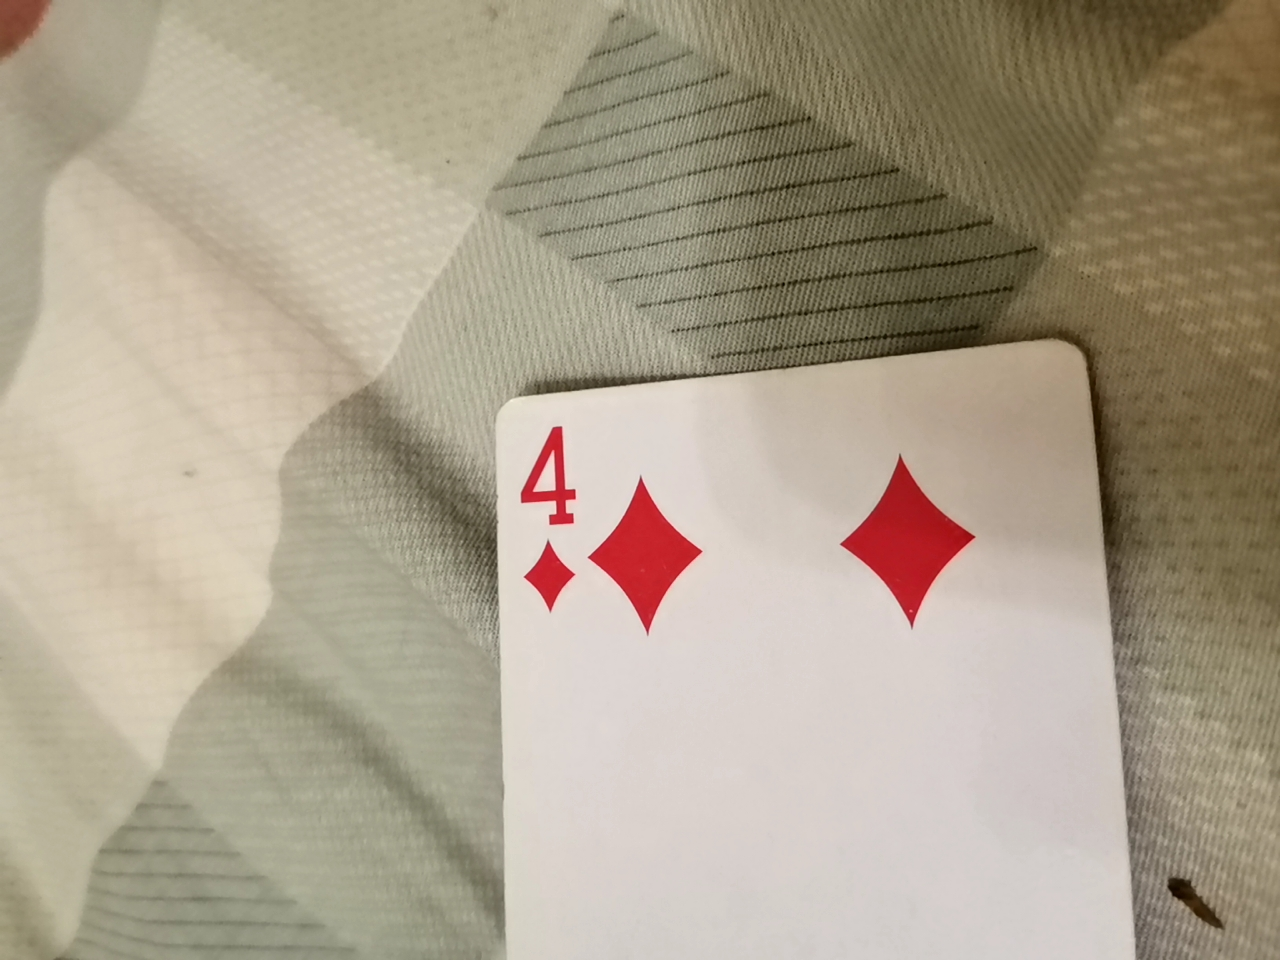fk 4: (463, 345, 1175, 960)
